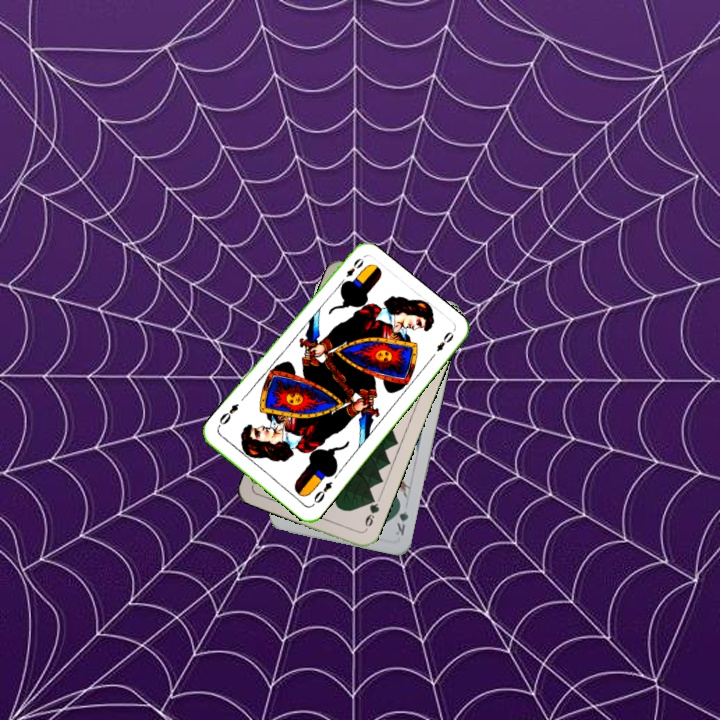EO: (308, 477, 335, 508), (342, 254, 367, 279)
G9: (360, 493, 382, 534)
GK: (391, 498, 411, 538)
